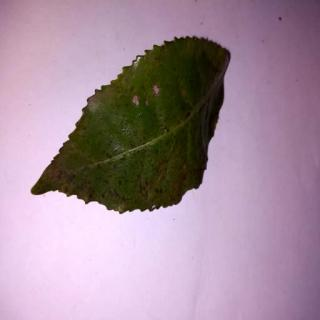Bird Eye Spot: (32, 37, 233, 214)
